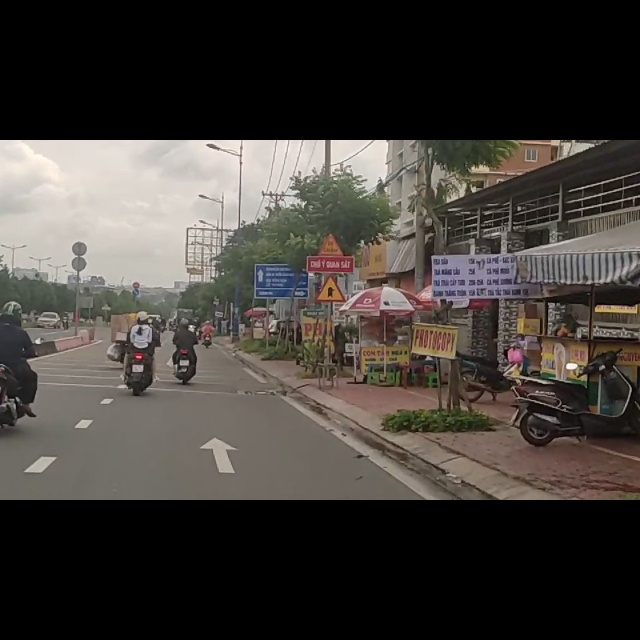bien_hieu_lenh: (314, 239, 345, 288), (317, 165, 345, 205)
